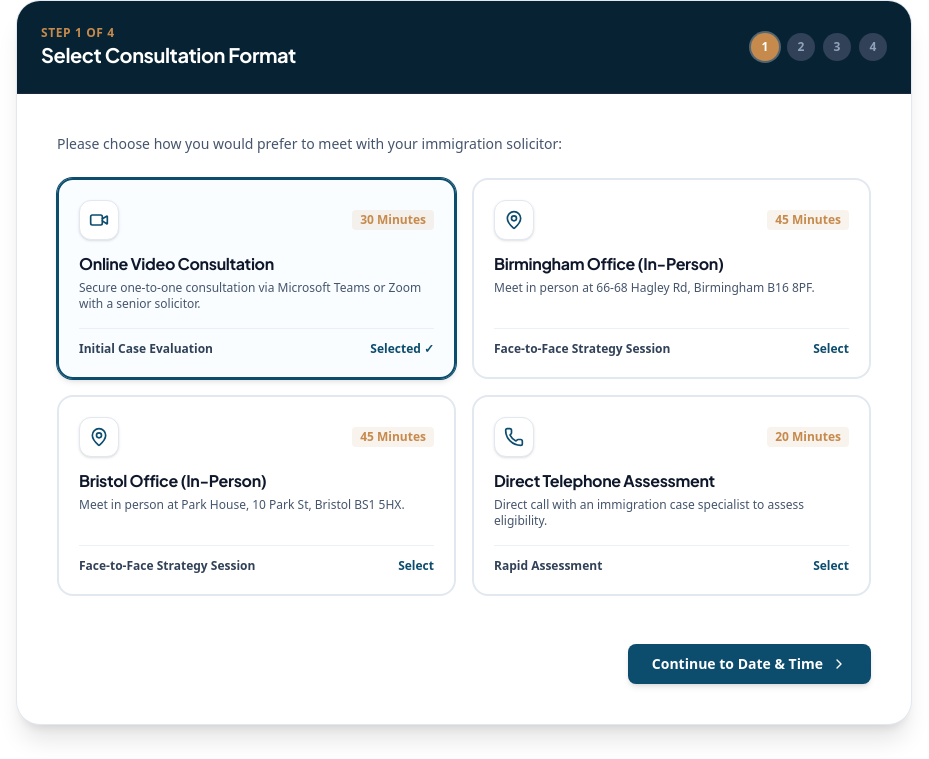
Test case: AppointmentScheduler Multi-Step Flow › completes full booking flow and shows confirmation with client details
// Step 1 → 2
Click the button "Continue to Date & Time". click: [749, 664]
box: [628, 644, 871, 684]
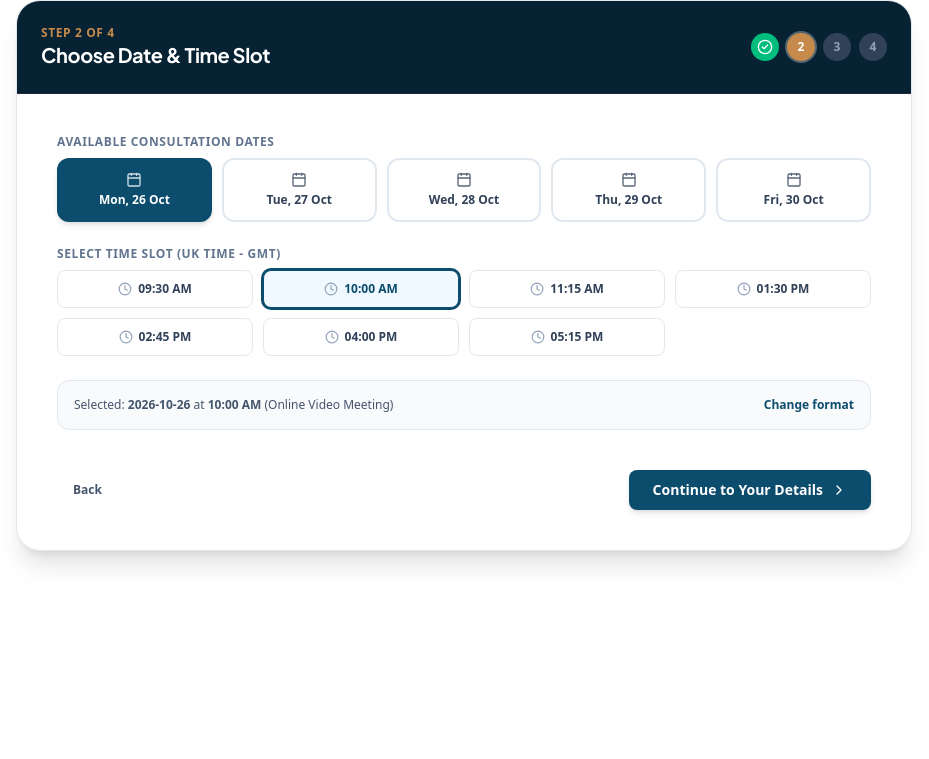
// Step 2 → 3
Click the button "Continue to Your Details". click: [750, 490]
box: [629, 470, 871, 510]
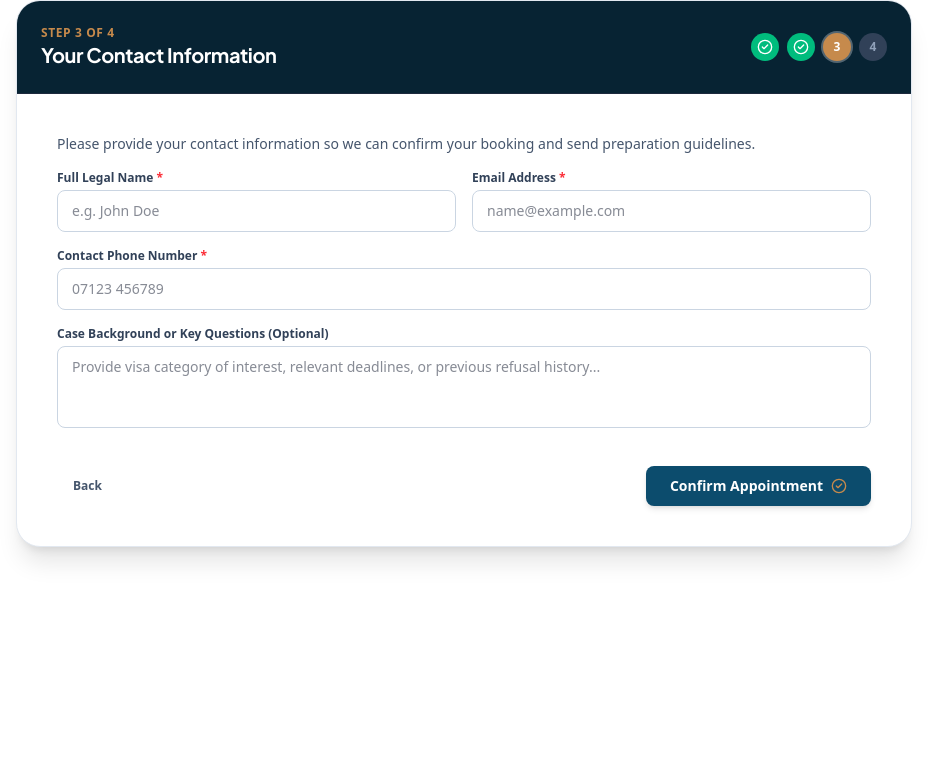
// Fill in client details (inputs are unlabelled, use placeholder to query)
Type "Alex Taylor" into the field with placeholder "e.g. John Doe". click: [256, 211]
box: [57, 190, 456, 232]
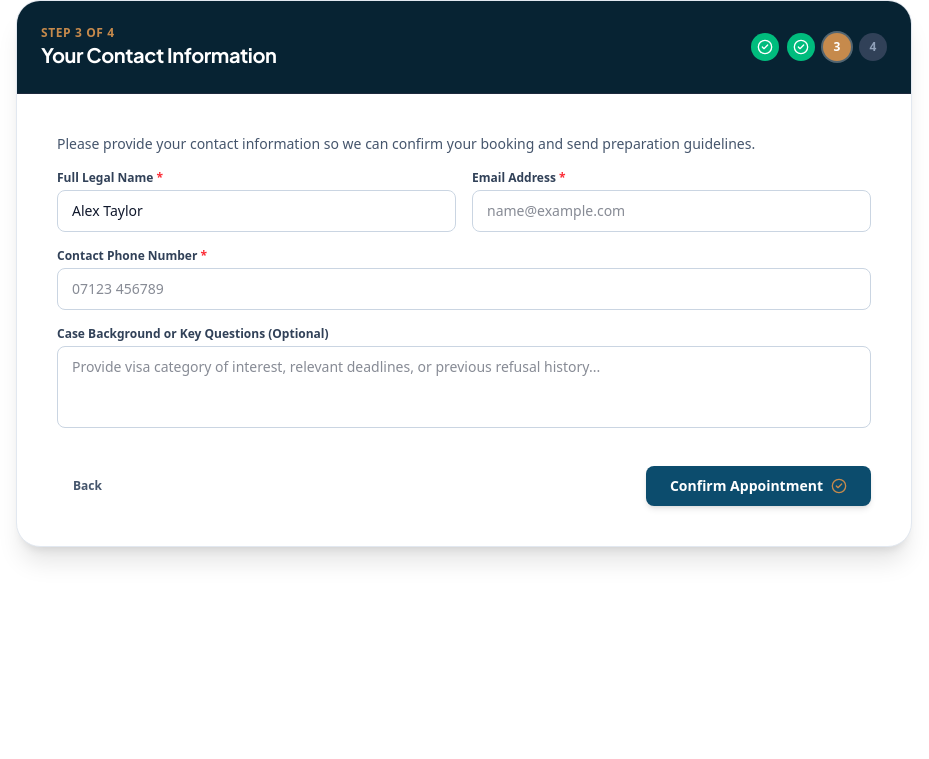
Type "alex.taylor@example.com" into the field with placeholder "name@example.com". click: [672, 211]
box: [472, 190, 871, 232]
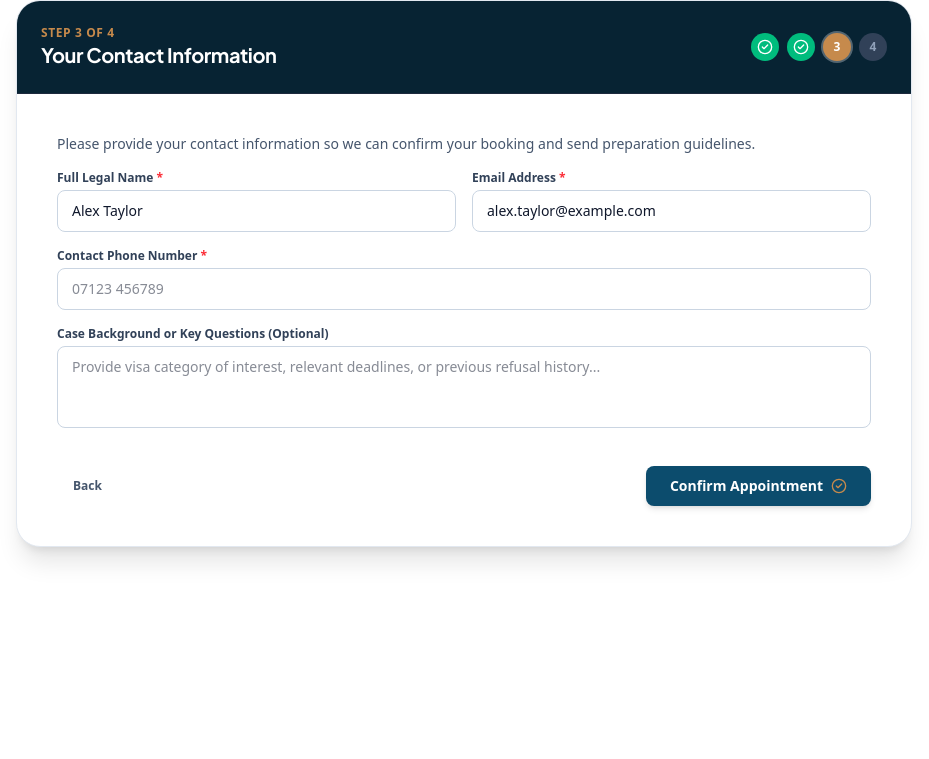
Type "+44 7911 123456" into the field with placeholder "07123 456789". click: [464, 289]
box: [57, 268, 871, 310]
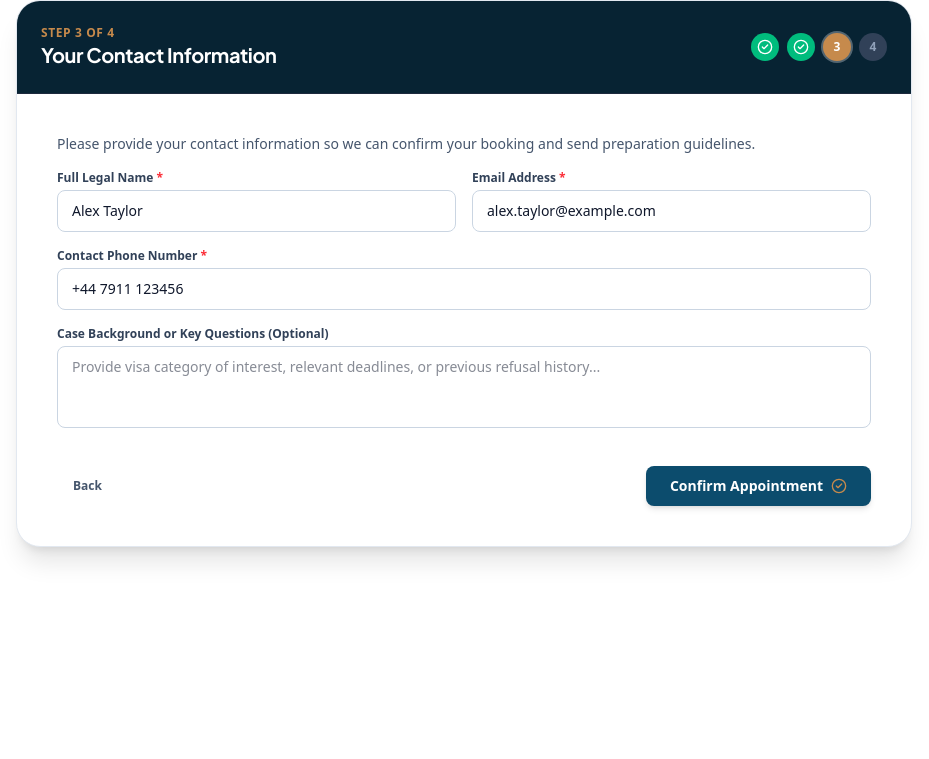
// Step 3 → 4
Click the button "Confirm Appointment". click: [758, 486]
box: [646, 466, 871, 506]
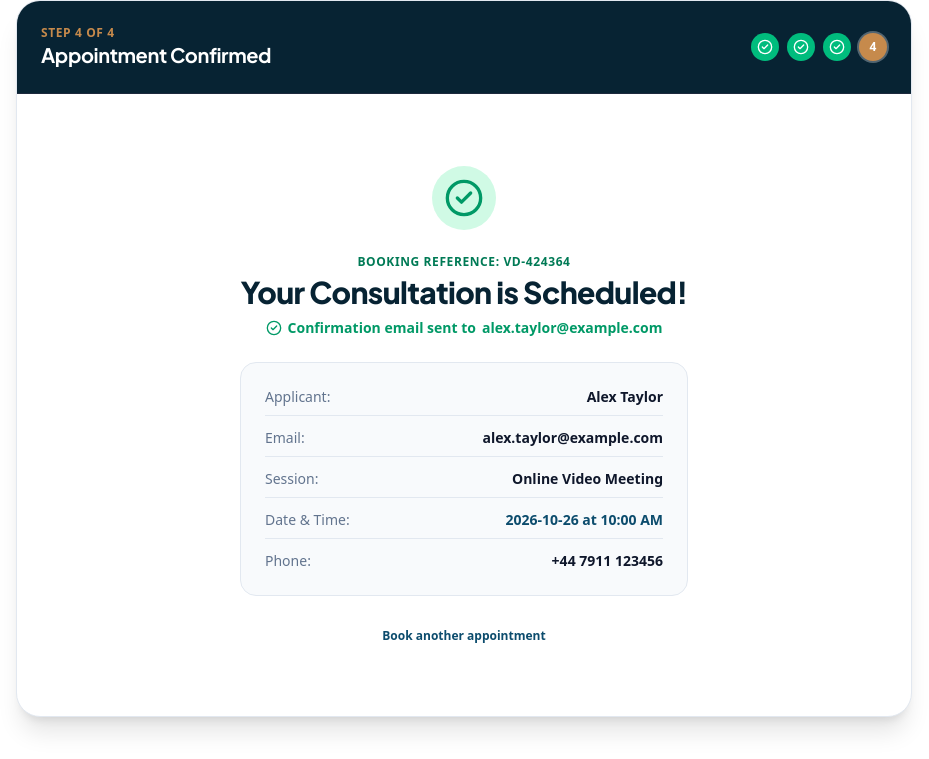
Result: the text "Step 4 of 4" is shown at [41, 24, 115, 41]
Result: the heading "Your Consultation is Scheduled!" is shown at [240, 273, 688, 311]
Result: the text "Alex Taylor" is shown at [587, 387, 663, 407]
